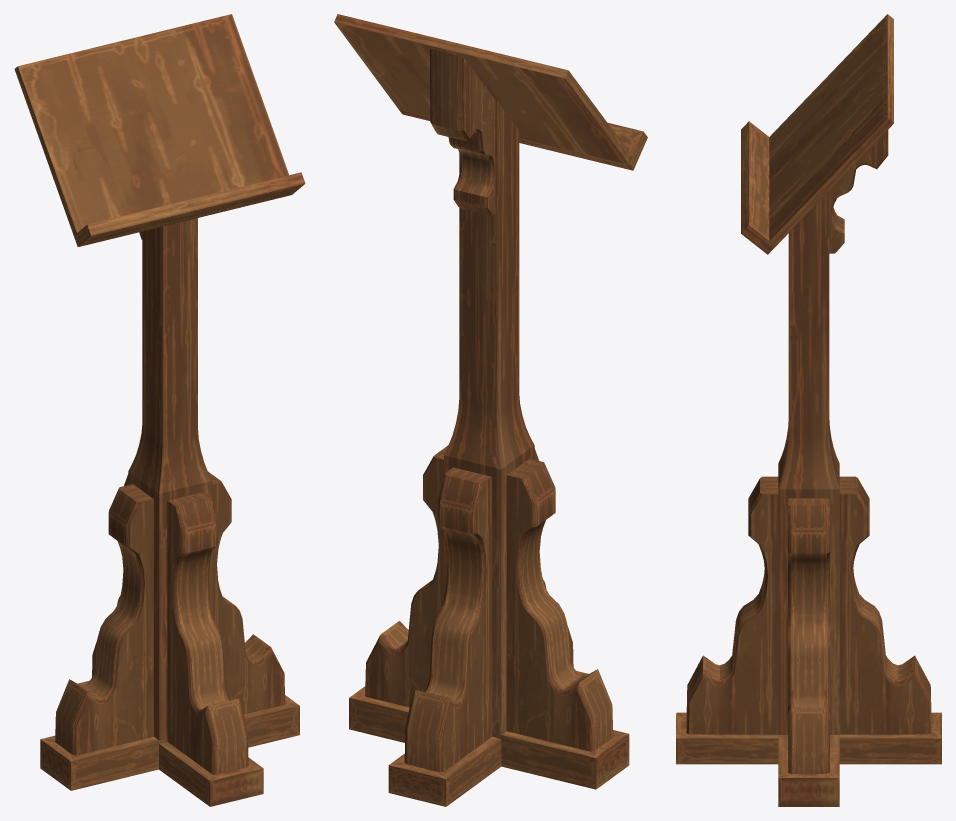
File: book_stand.glb
3 views of the same model, side by side, from view 1: azimuth 30°, elevation 25°; view 2: azimuth 150°, elevation 25°; view 3: azimuth 270°, elevation 25° (orthographic). The views are drawn at different scales.
Parts seen in each view (by area): view 1: BookStand; view 2: BookStand; view 3: BookStand.
Part boxes in pixels (x1,y1,x2,y2): BookStand: (14,14,305,806); BookStand: (334,14,647,806); BookStand: (676,14,941,806).
Size of the model in its own units: 0.5071 by 1.45 by 0.5112.
1 material, 1 textured.
